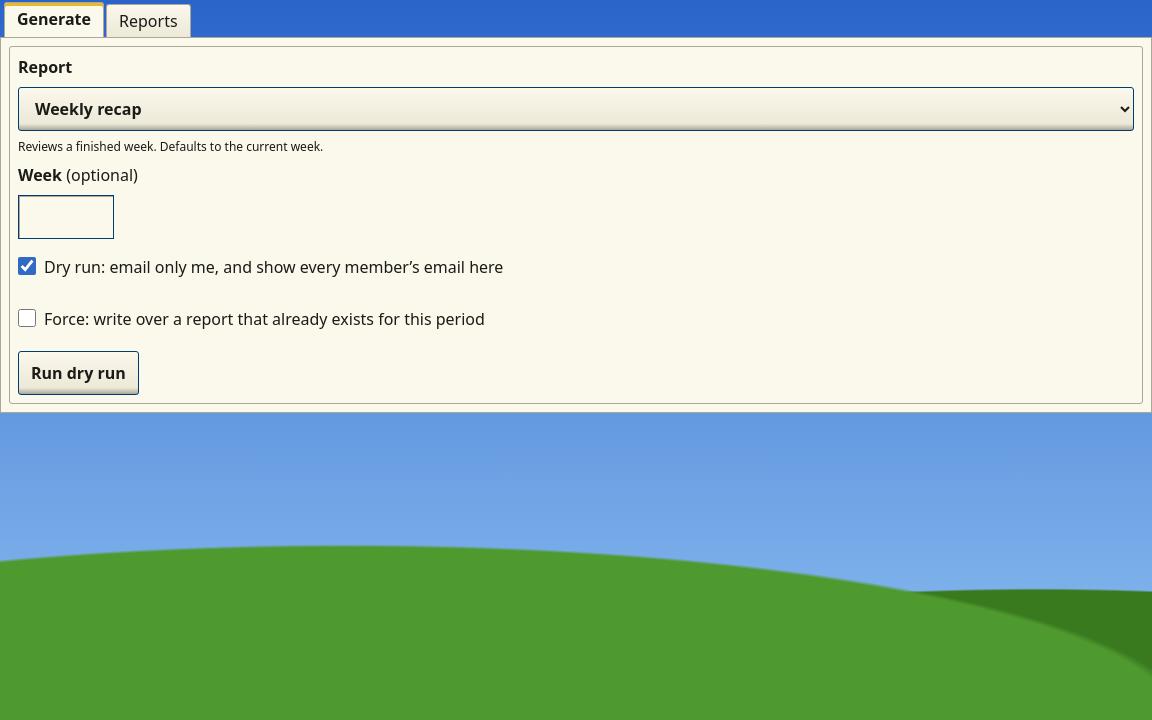
Test case: Admin: AI Review › runs a dry run for a chosen week and shows the report and email previews
Type "4" into the number field labelled "Week (optional)".
click(66, 217); type("4")  # box [18,195,114,239]
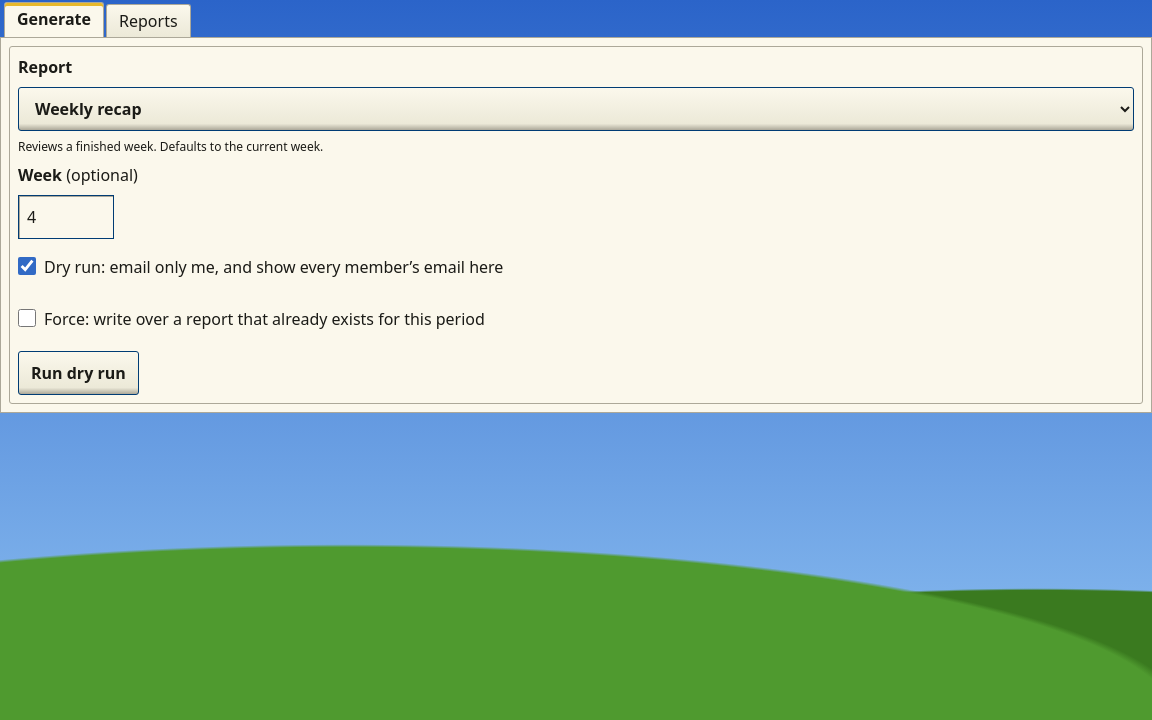
Click the button "Run dry run".
click(78, 373)  # box [18,351,139,395]
(page scrolled)
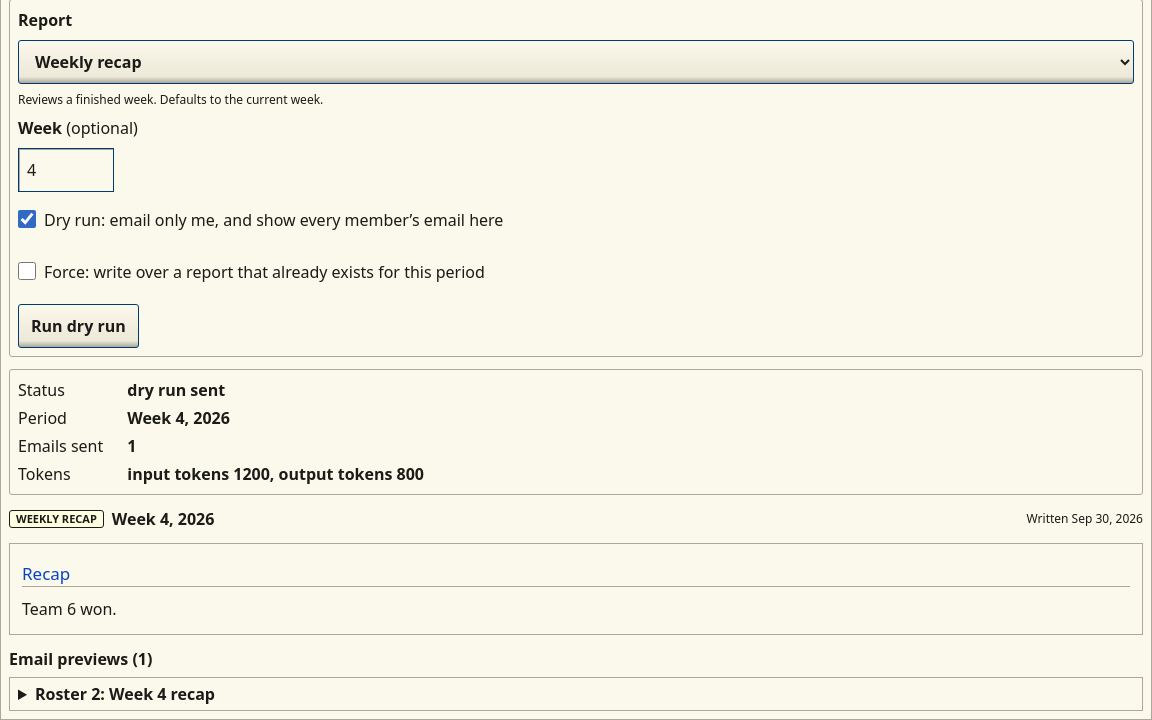
Result: the text "dry run sent" is shown at [127,379,225,401]
Result: the element named "Weekly Recap, Week 4, 2026" is shown at [9,507,1143,635]
Result: the heading "Roster 2: Week 4 recap" is shown at [35,683,215,705]
